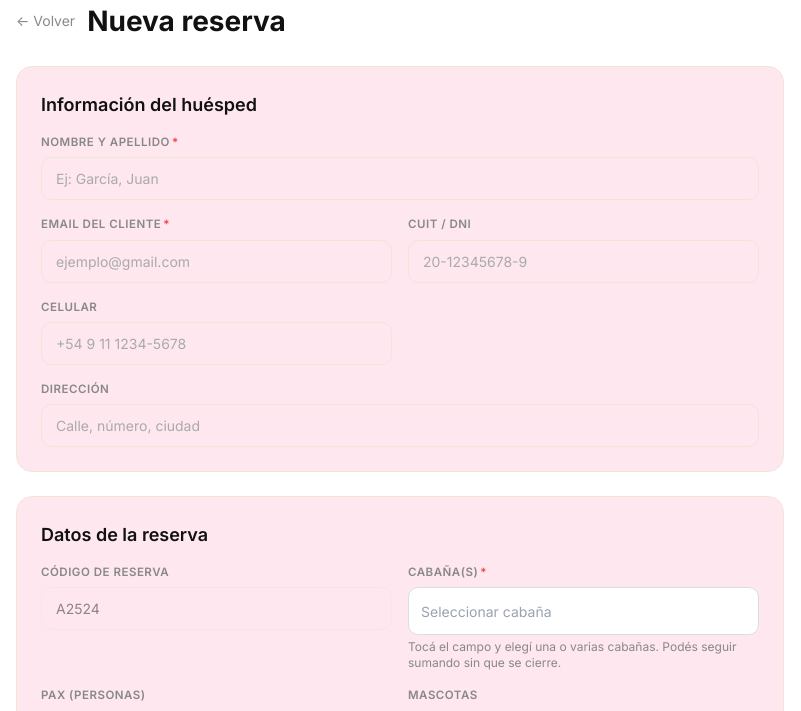
Test: ReservaForm.jsx — multi-select de cabañas al crear (CabinMultiPicker) › no se puede enviar sin elegir ninguna cabaña
Expected: the button with test id "cabana-picker-trigger" is shown, [408,587,759,635]
Step 1. Type "Huésped de Prueba" into the field with test id "input-nombre-apellido" → x=400, y=179, box [41,157,759,200]
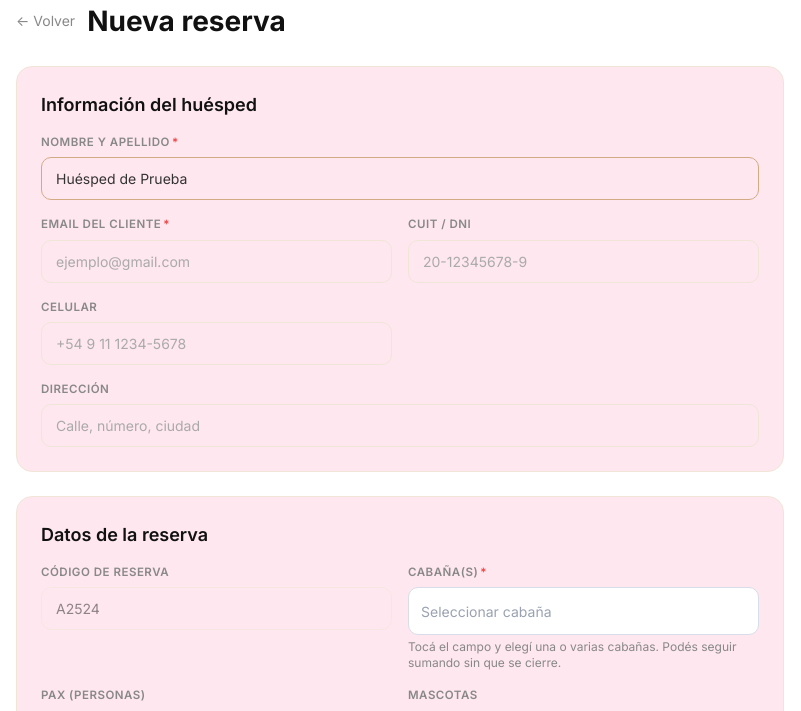
Step 2. Type "huesped@example.com" into the field with test id "input-email" → x=216, y=261, box [41,240,392,282]
(page scrolled)
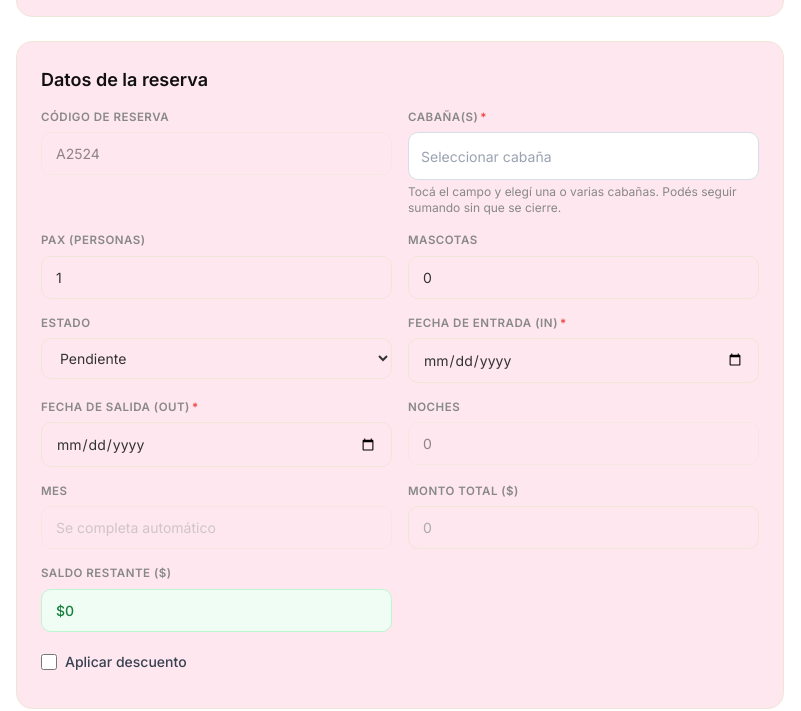
Step 3. Type "2026-06-01" into the date field with test id "input-fecha-entrada" → x=584, y=360, box [408,338,759,383]
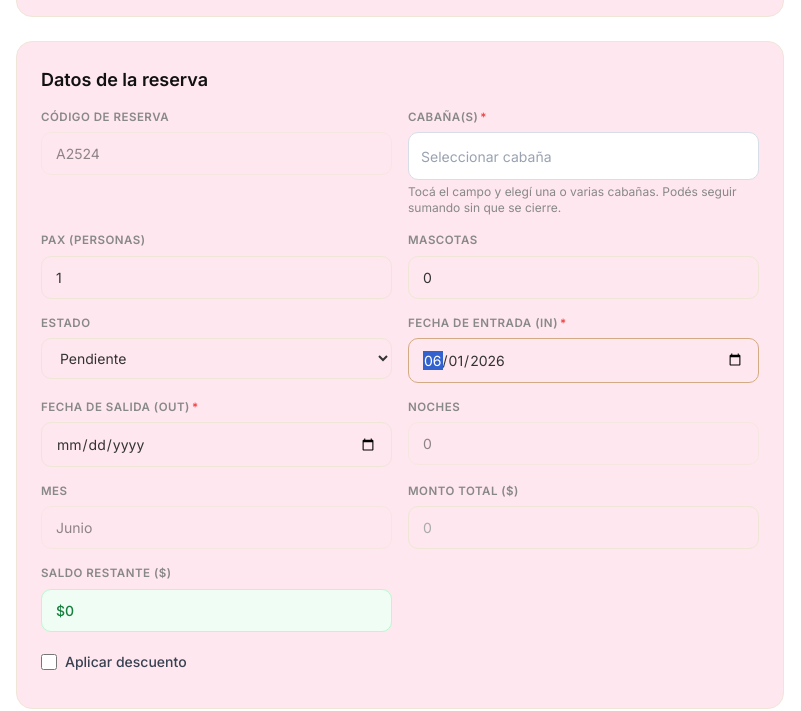
Step 4. Type "2026-06-03" into the date field with test id "input-fecha-salida" → x=216, y=445, box [41,422,392,467]
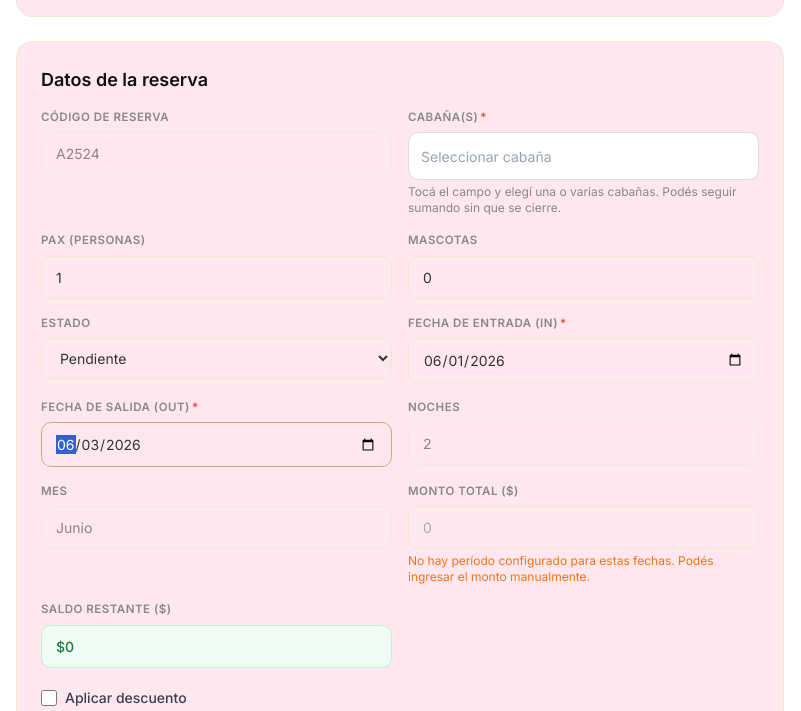
Step 5. Type "15000" into the number field with test id "input-monto-total" → x=584, y=528, box [408,506,759,549]
(page scrolled)
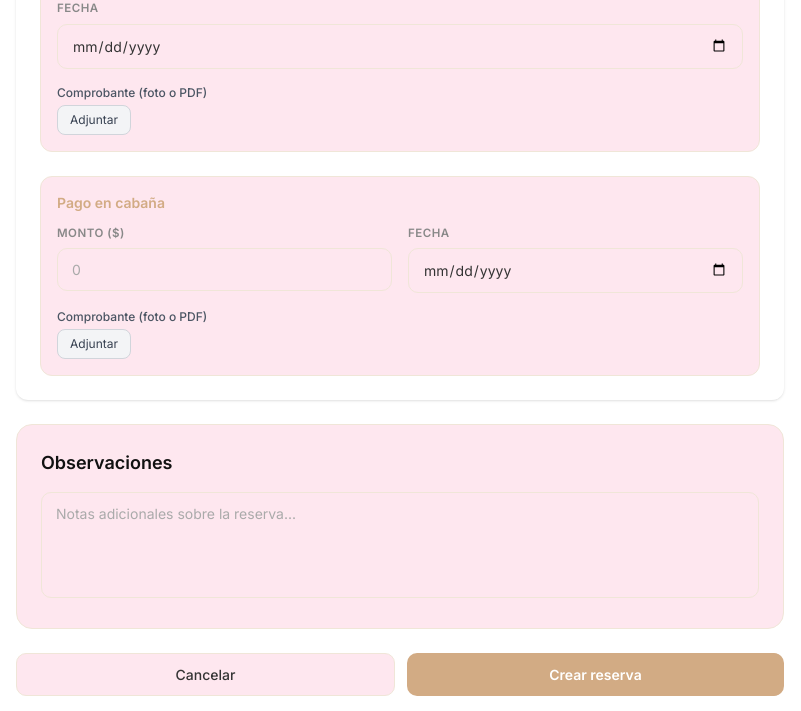
Step 6. Click the button with test id "btn-submit-reserva" → x=596, y=674, box [407,653,784,696]
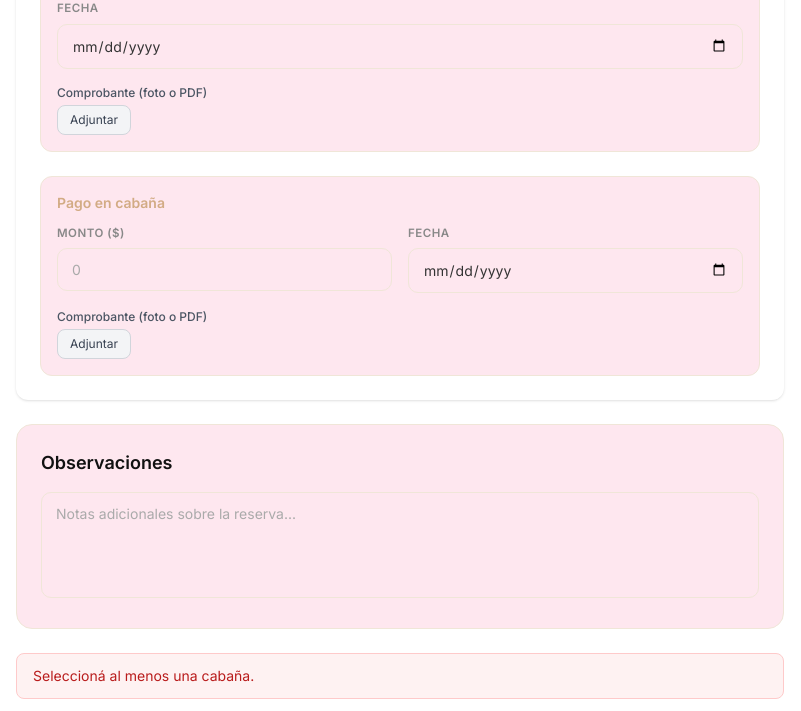
Expected: the text "Seleccioná al menos una cabaña." is shown, [16,653,784,699]
Expected: the text with test id "reserva-form-error" shows "Seleccioná al menos una cabaña", [33,667,254,684]
